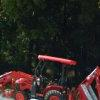Tractor: (9, 50, 100, 100)
